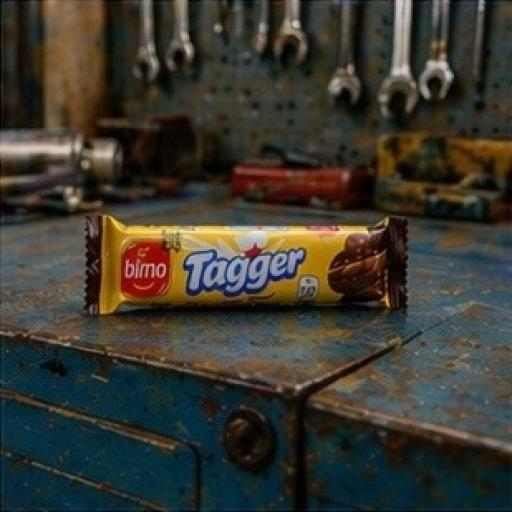tagger: (44, 134, 461, 361)
